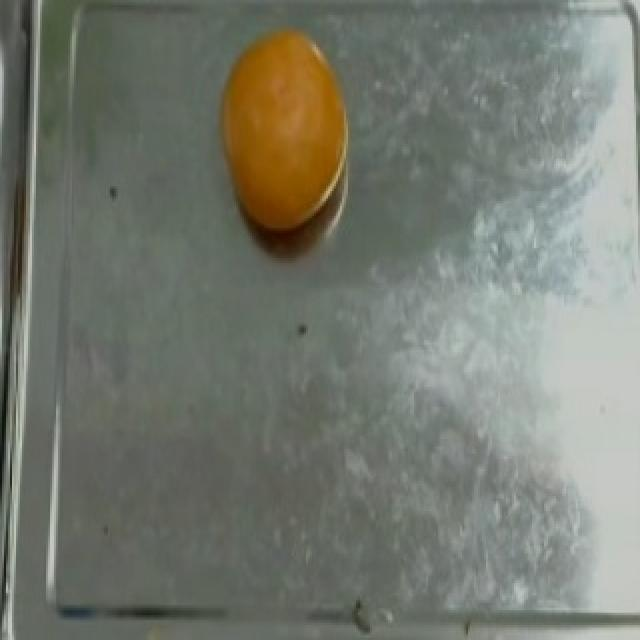Fruit: (210, 17, 364, 241)
